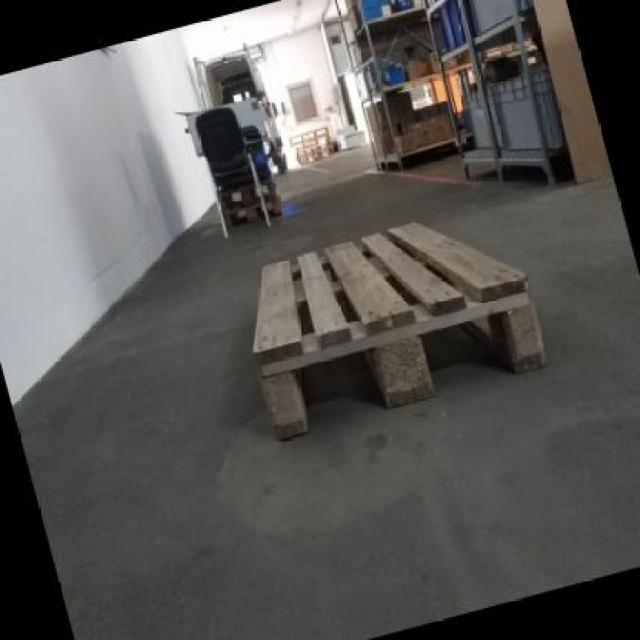block: (365, 316, 442, 408), (494, 282, 566, 374), (248, 353, 320, 444)
front: (244, 266, 572, 447)
